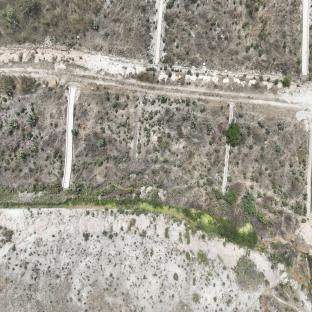slope_drain: (62, 88, 76, 188), (221, 103, 234, 195), (153, 0, 165, 66), (301, 0, 310, 77)
toe_drain: (0, 197, 245, 248)
vegetation: (225, 121, 240, 146)
